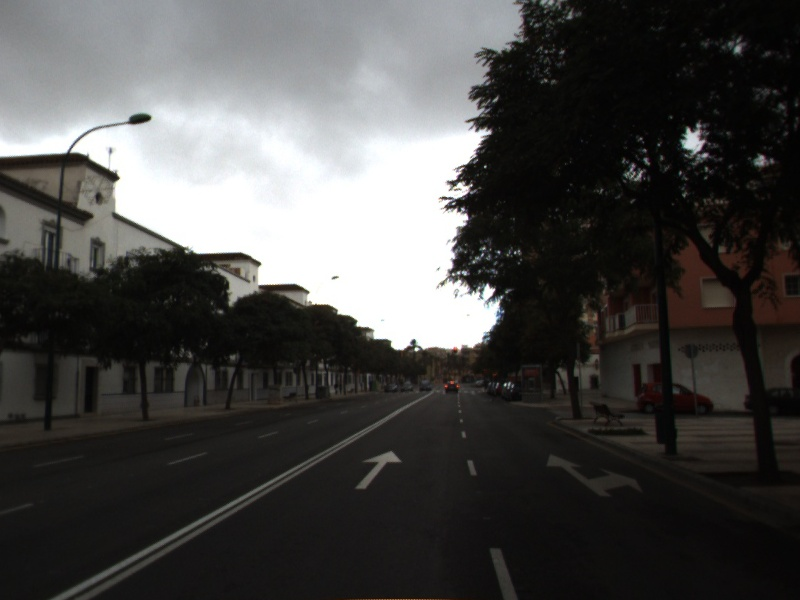STRAIGHT: (354, 449, 404, 490)
STRAIGHT_RIGHT: (545, 452, 645, 498)
